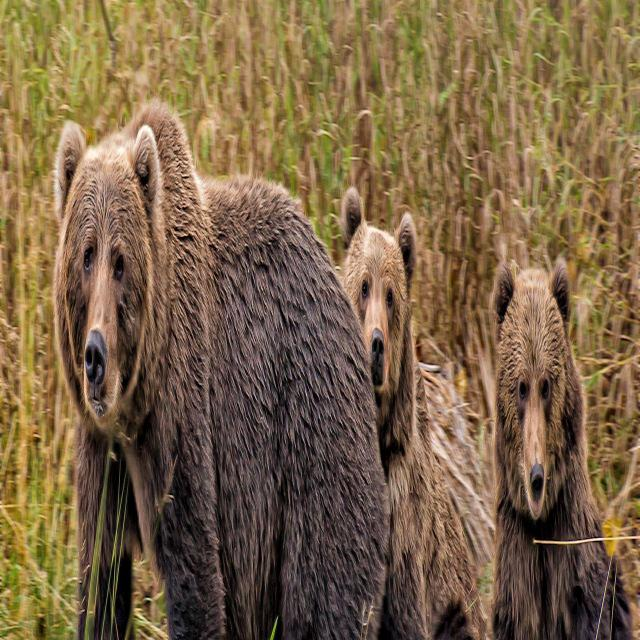Bear: (50, 104, 392, 640), (338, 187, 486, 640), (340, 194, 486, 640), (492, 257, 634, 640)
